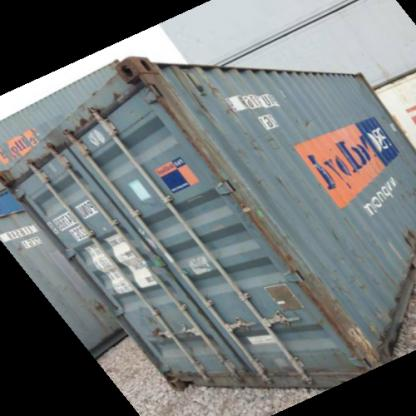Damage: (162, 64, 249, 124), (317, 252, 377, 306), (243, 130, 284, 154), (288, 105, 322, 130), (393, 218, 415, 251), (38, 137, 64, 164), (271, 171, 294, 199), (388, 176, 416, 198), (72, 110, 98, 133), (325, 221, 347, 246), (101, 87, 127, 105), (147, 322, 169, 342)
